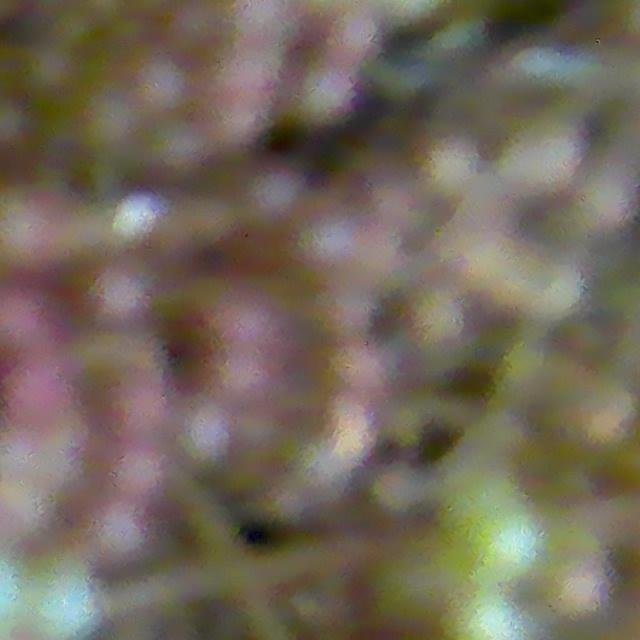SeaGrape: (465, 497, 554, 586), (4, 362, 80, 441), (80, 494, 150, 567), (204, 346, 274, 413), (170, 401, 232, 471), (35, 573, 98, 640), (204, 288, 280, 343), (107, 443, 174, 504), (110, 385, 171, 444), (0, 292, 49, 356)
